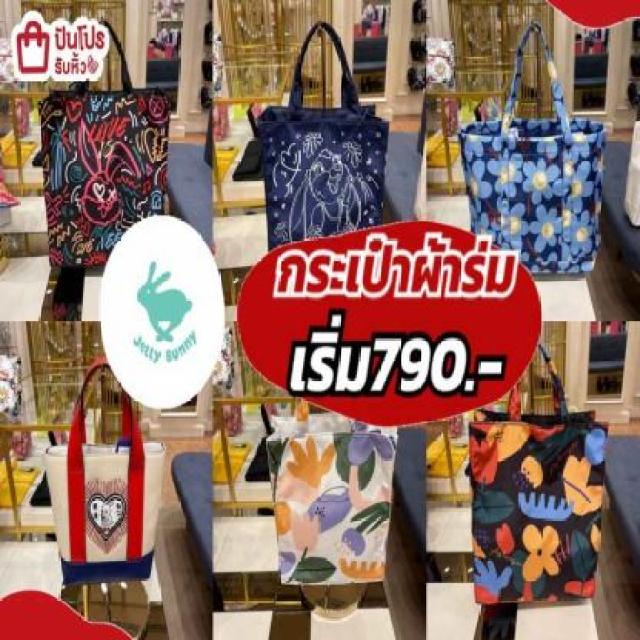Bag: (212, 0, 398, 300), (454, 304, 615, 613), (27, 4, 185, 302), (457, 13, 614, 282), (29, 338, 169, 593)
